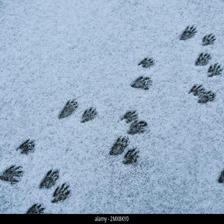raccoon: (55, 99, 80, 121), (37, 167, 58, 188), (177, 24, 198, 43), (129, 74, 152, 91), (192, 50, 212, 67)
